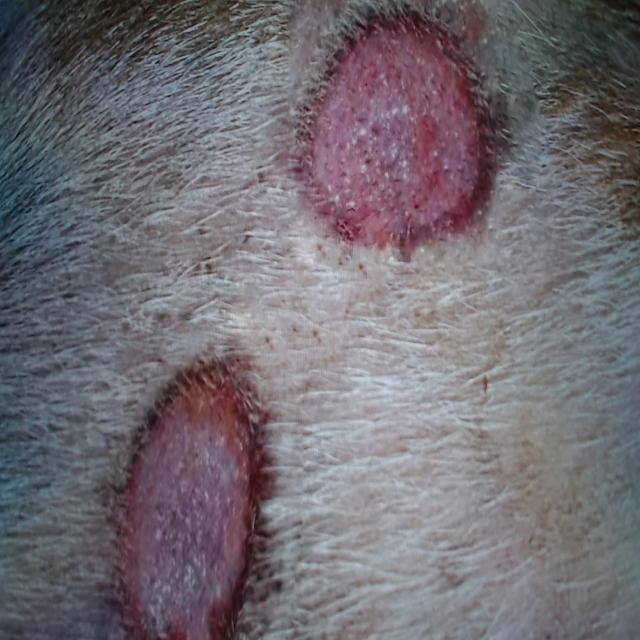ringworm: (287, 5, 519, 292), (99, 317, 285, 638)
